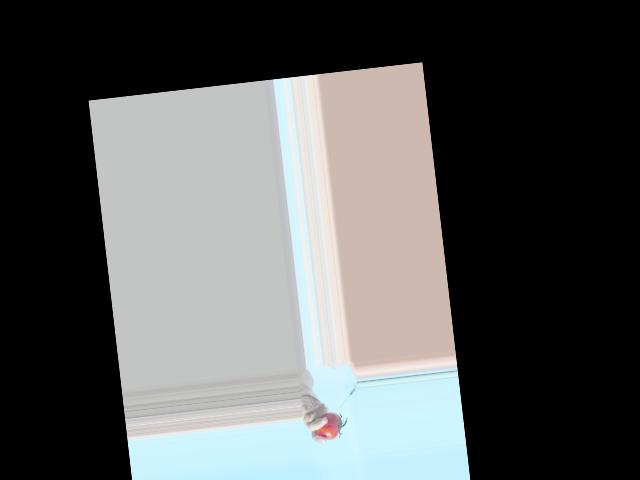tomato: (313, 411, 343, 441)
